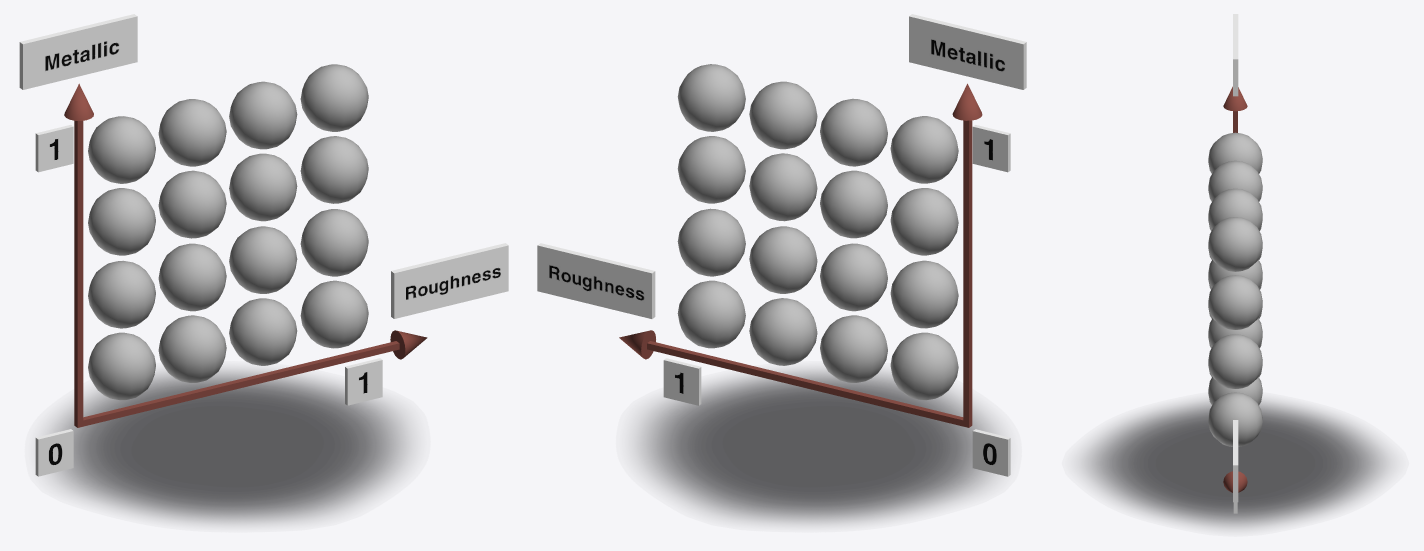
File: mat_metal_rough.glb
The picture shows the model from 3 angles, left to right: view 1: azimuth 30°, elevation 25°; view 2: azimuth 150°, elevation 25°; view 3: azimuth 270°, elevation 25°; orthographic projection. The views are drawn at different scales.
Visible parts, largest first — view 1: plane_shadow, pCube1, pCube3, pCube2, pSphere16, pSphere8, pSphere12, pSphere9, pSphere10, pSphere11, pSphere15, pSphere3 (+13 smaller); view 2: plane_shadow, pCube1, pCube2, pCube3, pSphere14, pSphere1, pSphere16, pSphere3, pSphere4, pSphere12, pSphere7, pSphere11 (+13 smaller); view 3: plane_shadow, pSphere6, pSphere10, pSphere12, pSphere3, pSphere14, pSphere13, pSphere15, pSphere5, pSphere9, pSphere4, pCube2 (+1 smaller).
Boxes of the visible parts, x1,y1,x2,y2 form: plane_shadow: [47, 369, 410, 523]; pCube1: [74, 120, 399, 427]; pCube3: [19, 14, 137, 89]; pCube2: [391, 243, 508, 318]; pSphere16: [158, 170, 226, 238]; pSphere8: [158, 243, 226, 311]; pSphere12: [300, 64, 368, 131]; pSphere9: [229, 153, 297, 221]; pSphere10: [300, 136, 368, 203]; pSphere11: [88, 188, 155, 255]; pSphere15: [88, 116, 155, 183]; pSphere3: [300, 280, 368, 348]; plane_shadow: [635, 369, 999, 523]; pCube1: [647, 120, 972, 427]; pCube2: [537, 243, 655, 318]; pCube3: [909, 14, 1026, 89]; pSphere14: [749, 81, 817, 149]; pSphere1: [890, 332, 958, 400]; pSphere16: [820, 170, 887, 238]; pSphere3: [677, 280, 745, 348]; pSphere4: [749, 298, 817, 365]; pSphere12: [677, 64, 745, 131]; pSphere7: [890, 260, 958, 328]; pSphere11: [890, 188, 958, 255]; plane_shadow: [1081, 400, 1389, 528]; pSphere6: [1208, 334, 1262, 388]; pSphere10: [1208, 275, 1262, 329]; pSphere12: [1208, 217, 1262, 271]; pSphere3: [1208, 392, 1262, 446]; pSphere14: [1208, 188, 1262, 229]; pSphere13: [1208, 160, 1262, 201]; pSphere15: [1208, 132, 1262, 173]; pSphere5: [1208, 318, 1262, 346]; pSphere9: [1208, 259, 1262, 287]; pSphere4: [1208, 377, 1262, 405]; pCube2: [1233, 420, 1238, 502].
Bounding box in the file's own units: 476 × 425 × 364.
Materials: 19 (2 with a texture image).
